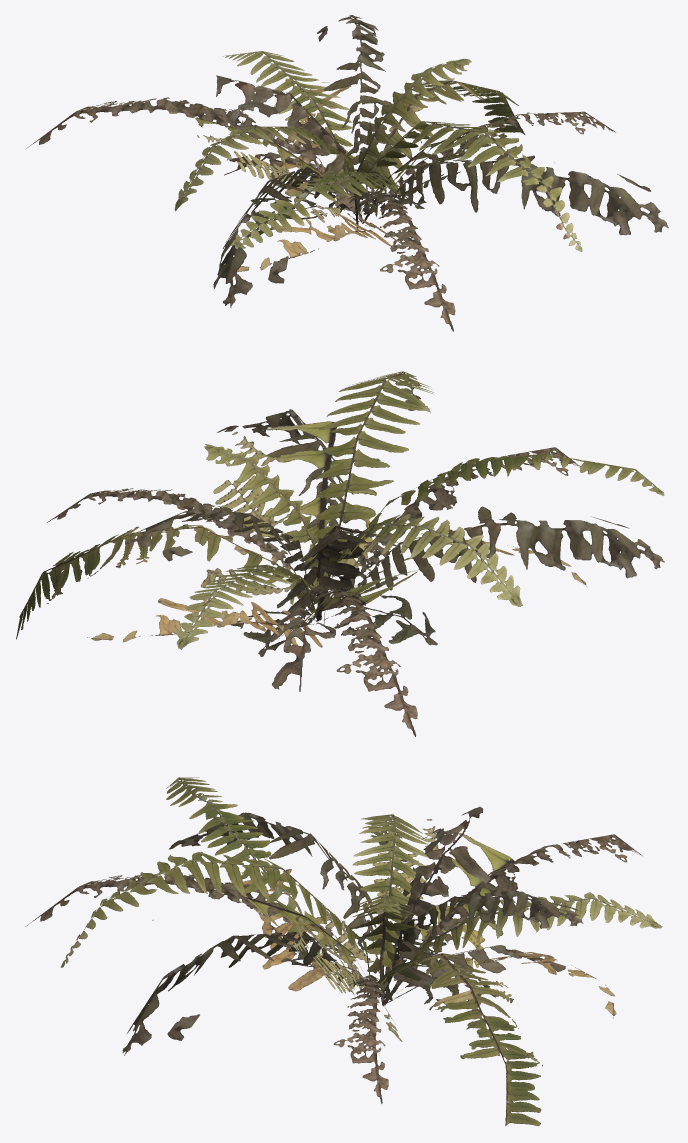
File: SM_Plant_Forest_08.fbx
The picture shows the model from 3 angles, top to bottom: view 1: azimuth 30°, elevation 25°; view 2: azimuth 150°, elevation 25°; view 3: azimuth 270°, elevation 25°; orthographic projection. The views are drawn at different scales.
Parts seen in each view (by area): view 1: SM_Plant_Forest_08; view 2: SM_Plant_Forest_08; view 3: SM_Plant_Forest_08.
Part boxes in pixels (bbox=[...]): SM_Plant_Forest_08: bbox=[25, 15, 668, 331]; SM_Plant_Forest_08: bbox=[16, 371, 664, 736]; SM_Plant_Forest_08: bbox=[25, 777, 662, 1126].
Size of the model in its own units: 71.37 by 77.32 by 23.
1 material, 1 textured.
